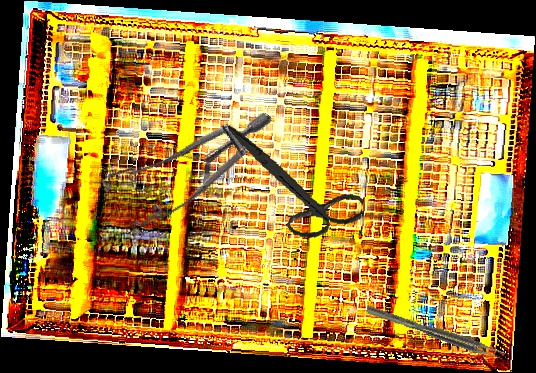Iris Scissors: (214, 122, 372, 246)
Speculum: (85, 57, 275, 265)
Tissue Forceps: (365, 301, 507, 363)
